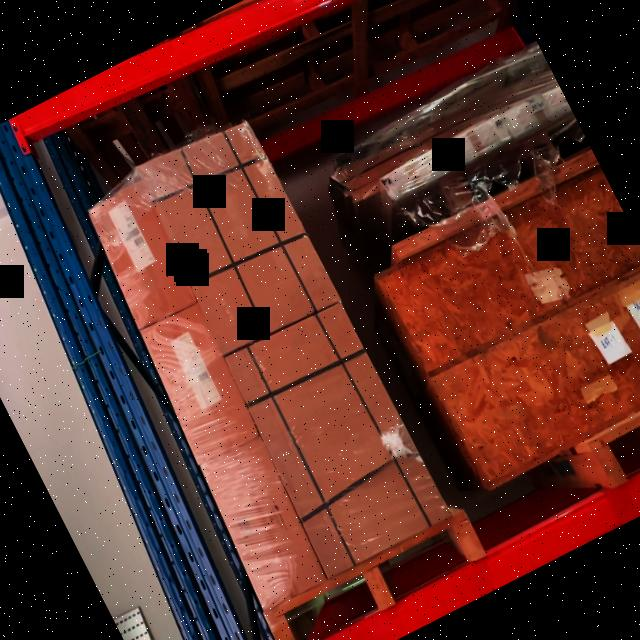box: (227, 300, 450, 576), (142, 116, 340, 354), (203, 444, 327, 604), (148, 315, 258, 457), (89, 184, 198, 327)
